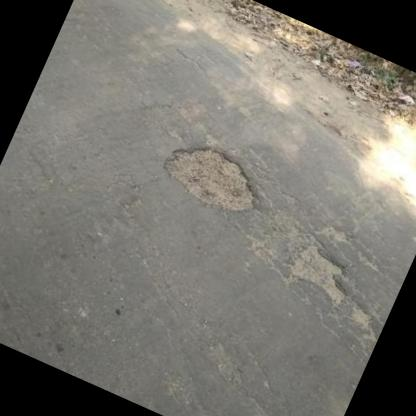pothole: (152, 129, 270, 224), (278, 235, 359, 310)
